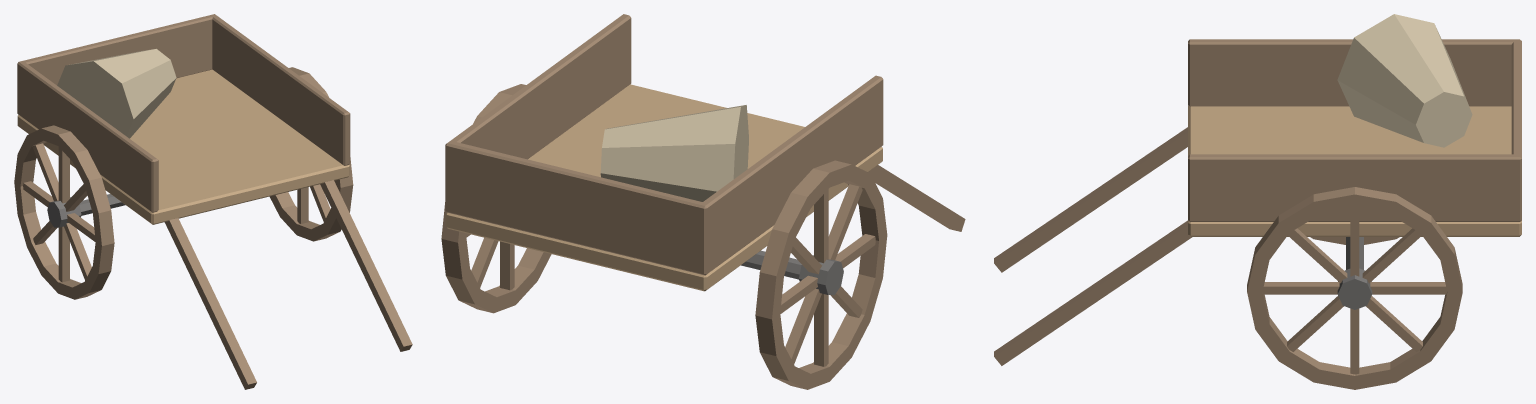
Rendered from cart.glb.
3 views of the same model, side by side, from view 1: azimuth 30°, elevation 25°; view 2: azimuth 150°, elevation 25°; view 3: azimuth 270°, elevation 25° (orthographic). The views are drawn at different scales.
Visible parts, largest first — view 1: cart; view 2: cart; view 3: cart.
Boxes of the visible parts, <box> form: cart: <box>14,14,412,389</box>; cart: <box>441,14,965,389</box>; cart: <box>994,14,1521,389</box>.
Size of the model in its own units: 1.43 by 1.11 by 2.06.
